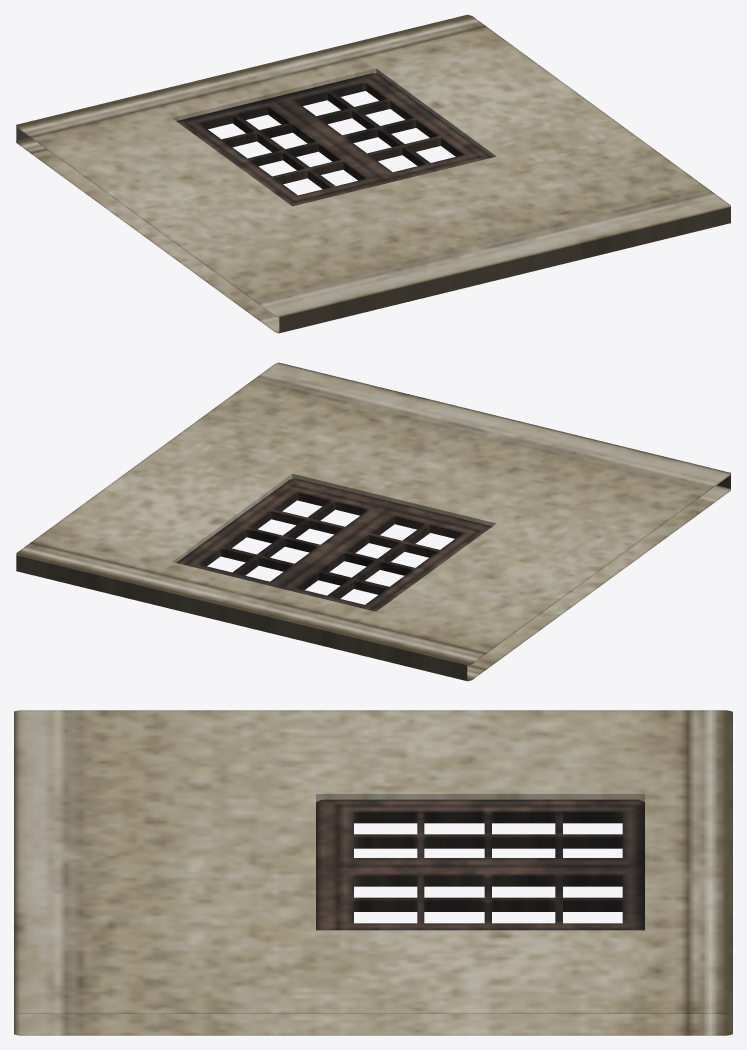
The model's file is SM_EC_House_Wall_Window_1_3x3_0.fbx.
3 views of the same model, one above another, from view 1: azimuth 30°, elevation 25°; view 2: azimuth 150°, elevation 25°; view 3: azimuth 270°, elevation 25° (orthographic). The views are drawn at different scales.
Visible parts, largest first — view 1: SM_EC_House_Wall_Window_1_3x3_0; view 2: SM_EC_House_Wall_Window_1_3x3_0; view 3: SM_EC_House_Wall_Window_1_3x3_0.
Part boxes in pixels (x1,y1,x2,y2): SM_EC_House_Wall_Window_1_3x3_0: (16, 14, 730, 333); SM_EC_House_Wall_Window_1_3x3_0: (16, 362, 730, 681); SM_EC_House_Wall_Window_1_3x3_0: (14, 710, 732, 1035).
Bounding box in the file's own units: 3 × 3 × 0.1.
